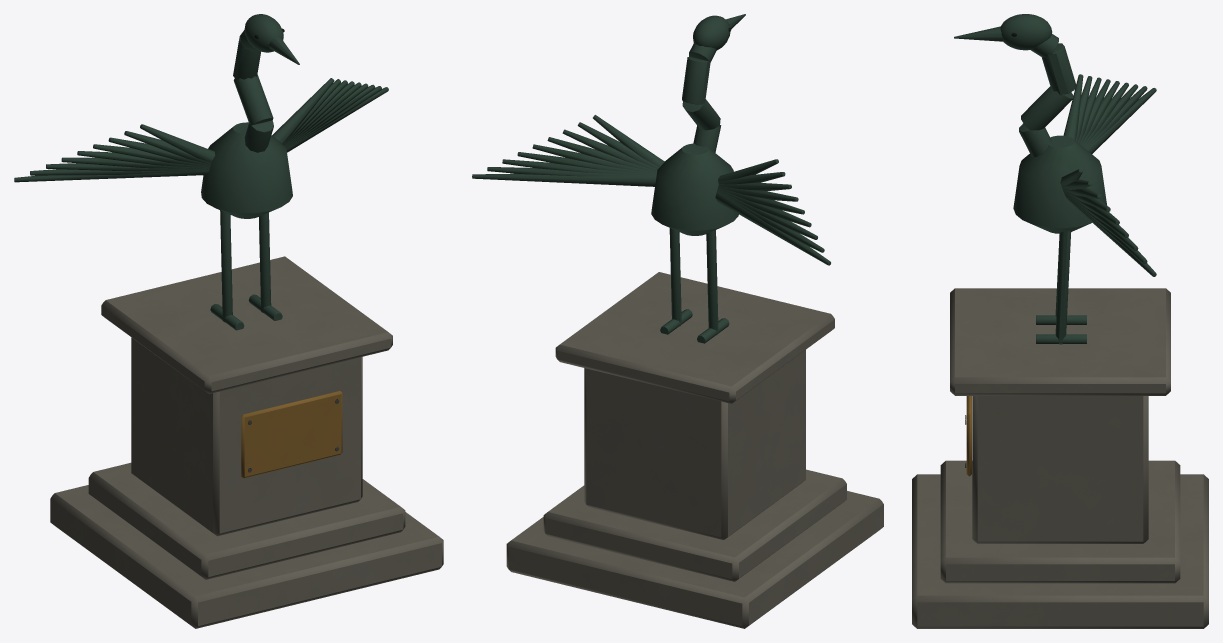
Rendered from level_camp_heron_memorial_authored.glb.
3 renders of one model, left to right at view 1: azimuth 30°, elevation 25°; view 2: azimuth 150°, elevation 25°; view 3: azimuth 270°, elevation 25°, orthographic. The views are drawn at different scales.
Visible parts, largest first — view 1: level_camp_heron_memorial_authored; view 2: level_camp_heron_memorial_authored; view 3: level_camp_heron_memorial_authored.
Part boxes in pixels (<box>): level_camp_heron_memorial_authored: <box>14,14,443,628</box>; level_camp_heron_memorial_authored: <box>472,14,883,628</box>; level_camp_heron_memorial_authored: <box>912,14,1208,628</box>.
Bounding box in the file's own units: 2.15 × 2.98 × 1.45.
Materials: 1 (1 with a texture image).
